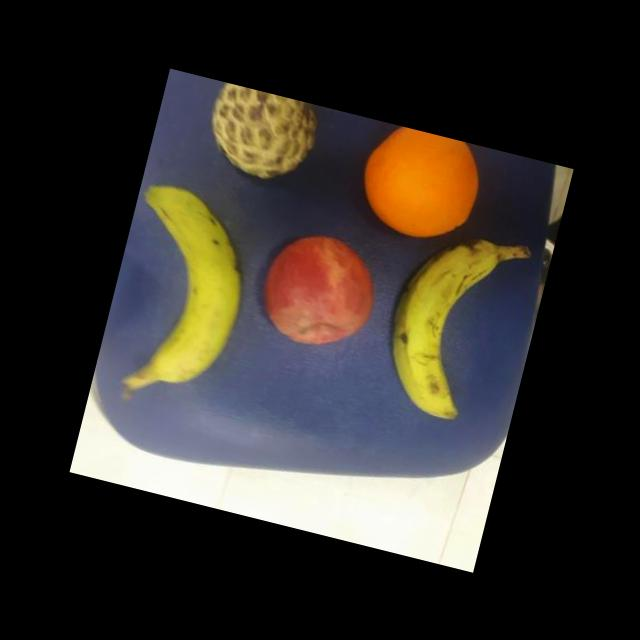Sakya fruit: (192, 80, 324, 196)
apple: (246, 221, 386, 361)
banana: (94, 177, 264, 411), (365, 220, 509, 426)
orange: (348, 119, 488, 249)
